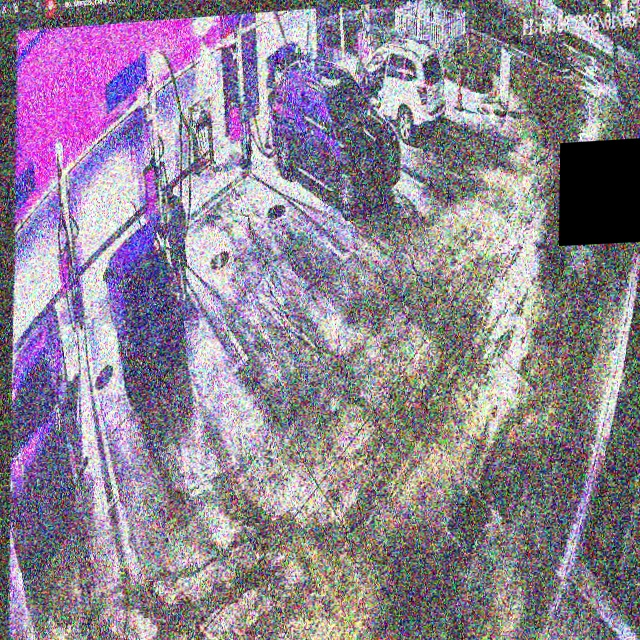Car: (266, 42, 403, 223), (100, 213, 186, 403)
